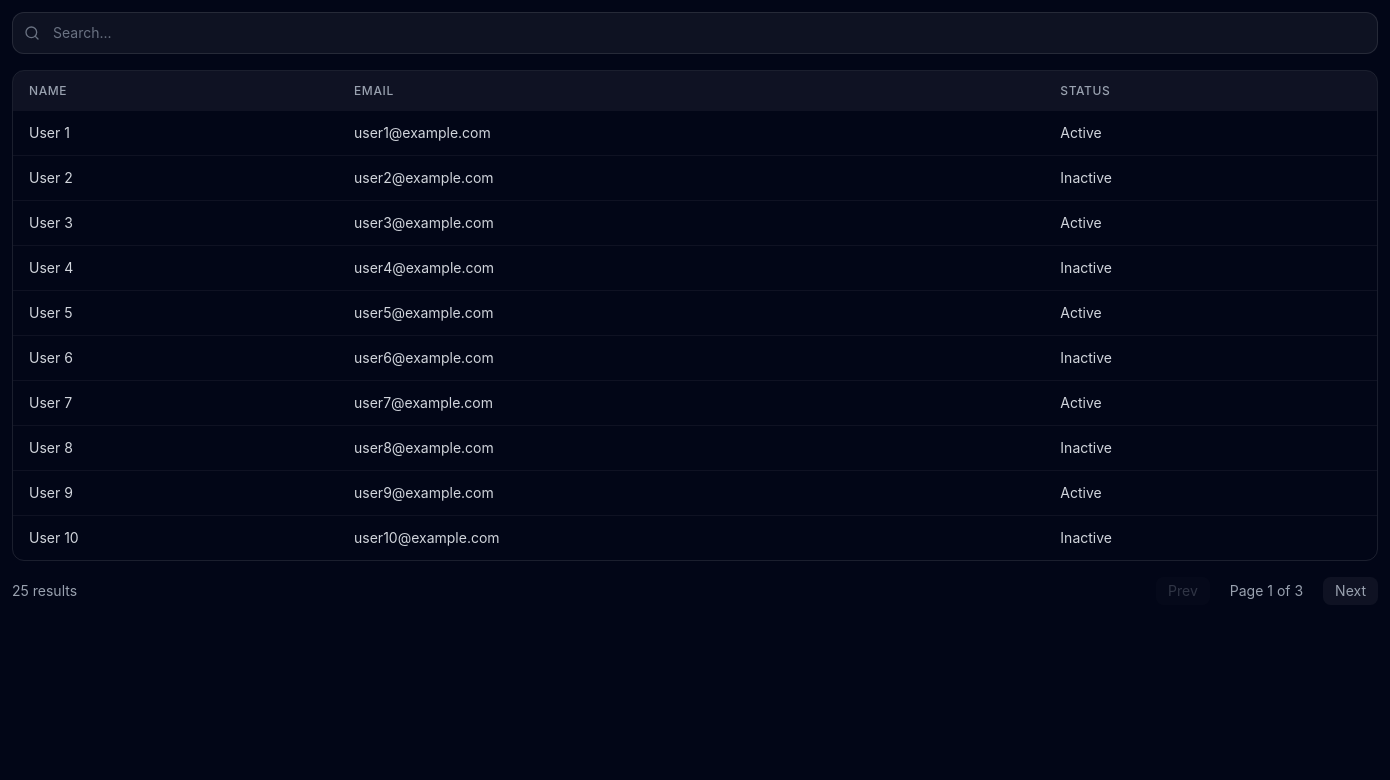
DataTable › pagination works
Expected: the text "User 1" is shown, [13,111,338,156]
Expected: the text "User 10" is shown, [13,516,338,560]
Note: Navigate to next page
Click the button "Next" at coordinates (1351, 591), box [1323,577,1378,605]
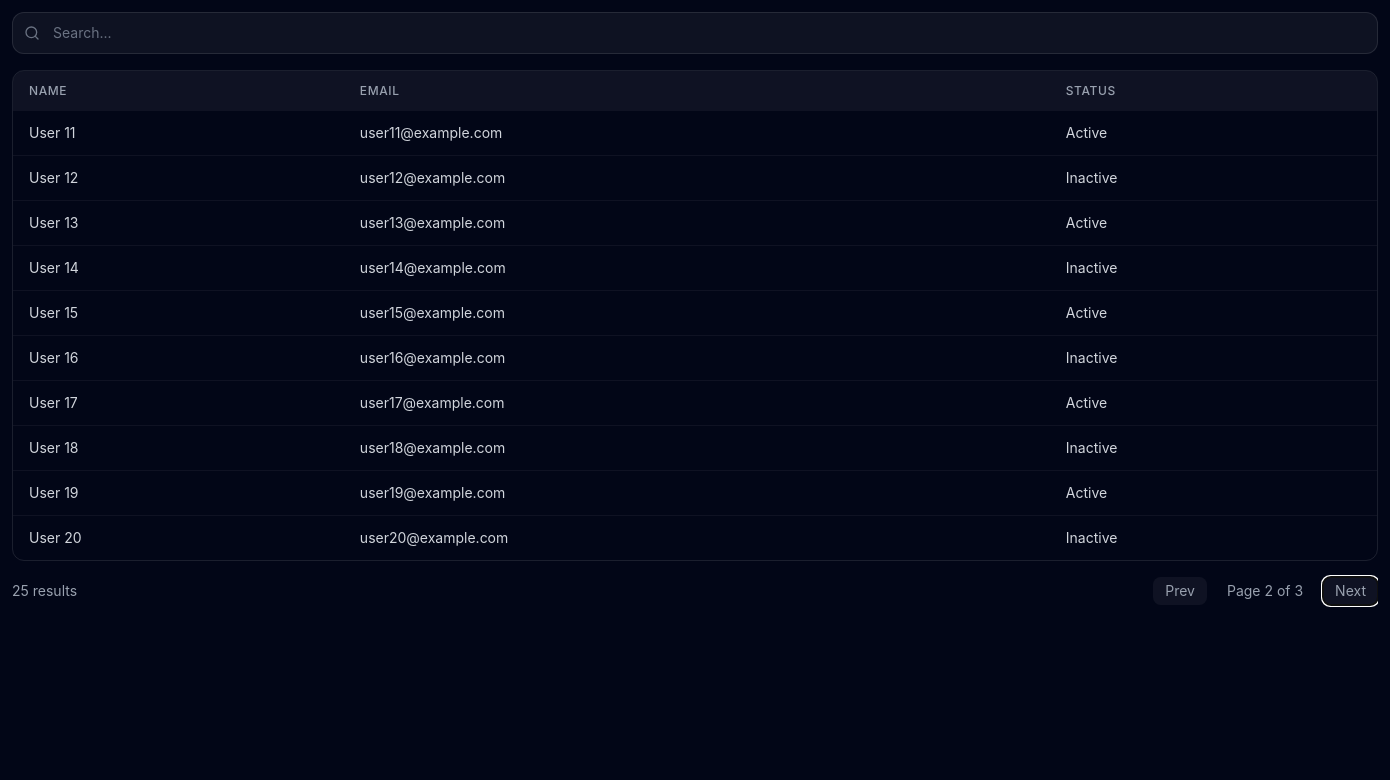
Result: the text "User 11" is shown at [13,111,344,156]
Result: the text "Page 2 of 3" is shown at [1227,582,1303,599]
Note: Navigate back
Click the button "Prev" at coordinates (1180, 591), box [1153,577,1207,605]
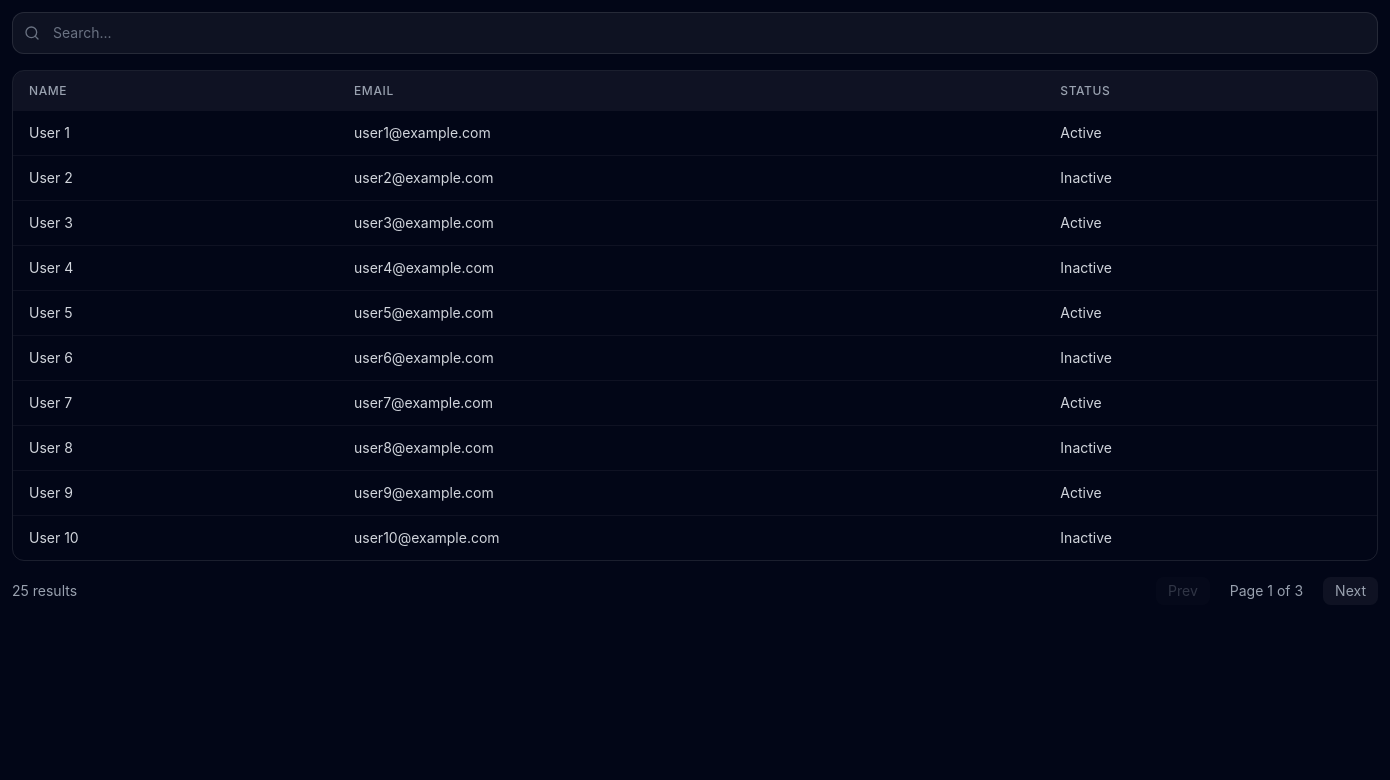
Expected: the text "User 1" is shown, [13,111,338,156]
Result: the text "Page 1 of 3" is shown at [1230,582,1303,599]
